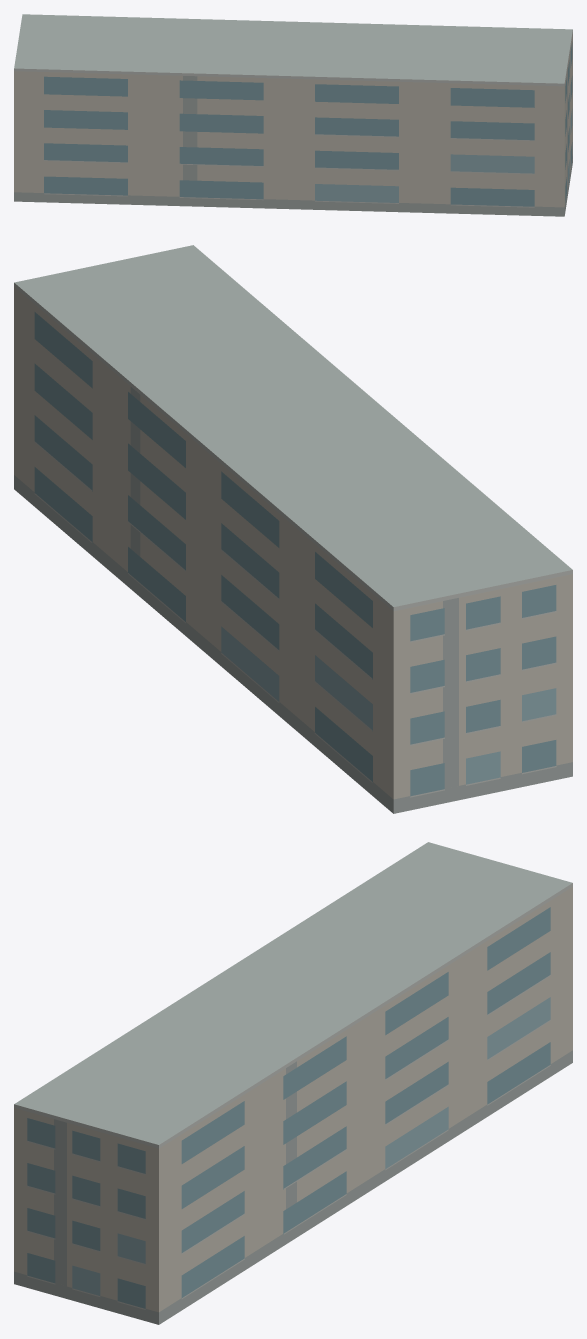
File: residential-f0965ff0-b88f-480b-a314-3655999a5c47.glb
3 renders of one model, top to bottom at view 1: azimuth 30°, elevation 25°; view 2: azimuth 150°, elevation 25°; view 3: azimuth 270°, elevation 25°, orthographic. The views are drawn at different scales.
Parts seen in each view (by area): view 1: residential-f0965ff0-b88f-480b-a314-3655999a5c47.tmp; view 2: residential-f0965ff0-b88f-480b-a314-3655999a5c47.tmp; view 3: residential-f0965ff0-b88f-480b-a314-3655999a5c47.tmp.
Part boxes in pixels (bbox=[...]): residential-f0965ff0-b88f-480b-a314-3655999a5c47.tmp: bbox=[14, 14, 572, 216]; residential-f0965ff0-b88f-480b-a314-3655999a5c47.tmp: bbox=[14, 245, 572, 813]; residential-f0965ff0-b88f-480b-a314-3655999a5c47.tmp: bbox=[14, 842, 572, 1324].
Size of the model in its own units: 44.09 by 12.2 by 34.36.
